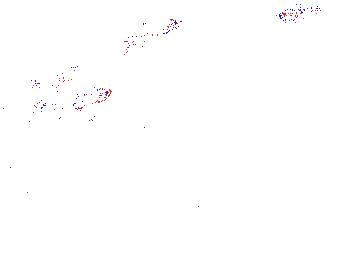glassfish: (76, 107, 164, 147), (1, 86, 68, 137)
red belly glassfish: (275, 4, 331, 25), (276, 45, 295, 63)
redtail glassfish: (28, 87, 112, 118), (119, 17, 184, 50), (28, 65, 80, 92)
